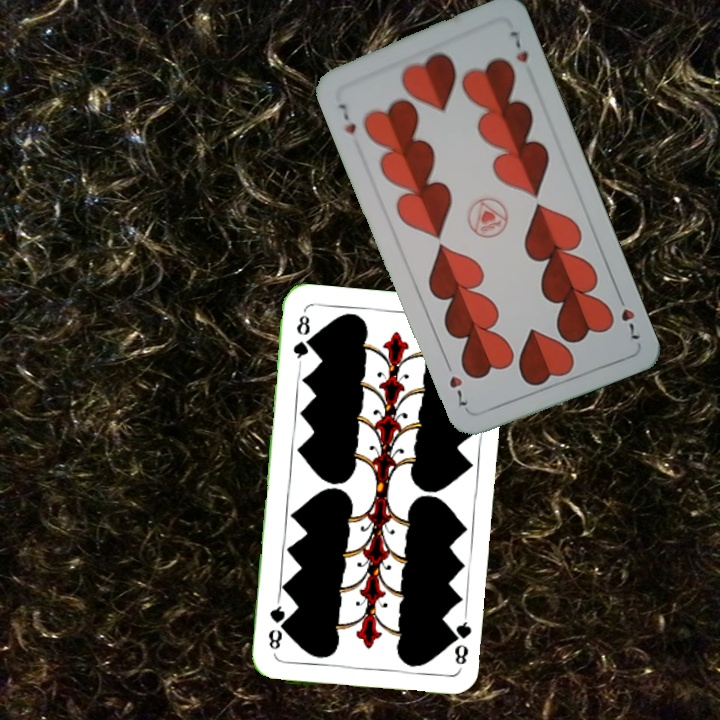G8: (445, 613, 474, 667), (289, 311, 313, 367)
H7: (613, 289, 643, 343), (335, 99, 359, 137)
